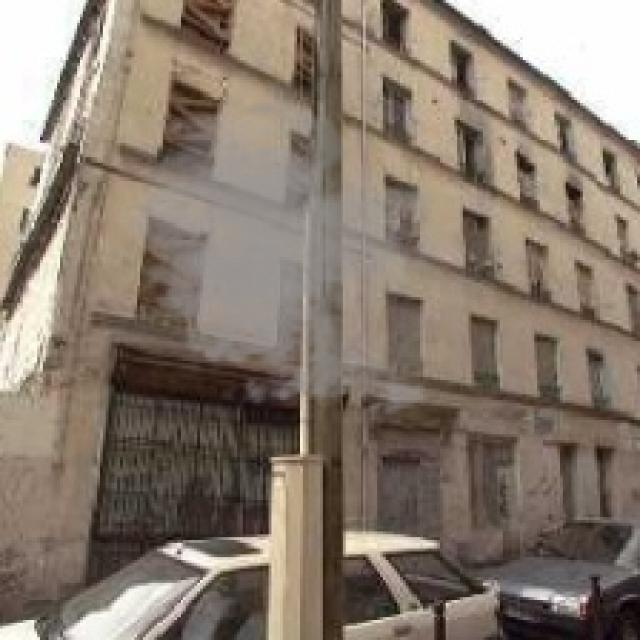smoke: (106, 77, 488, 426)
